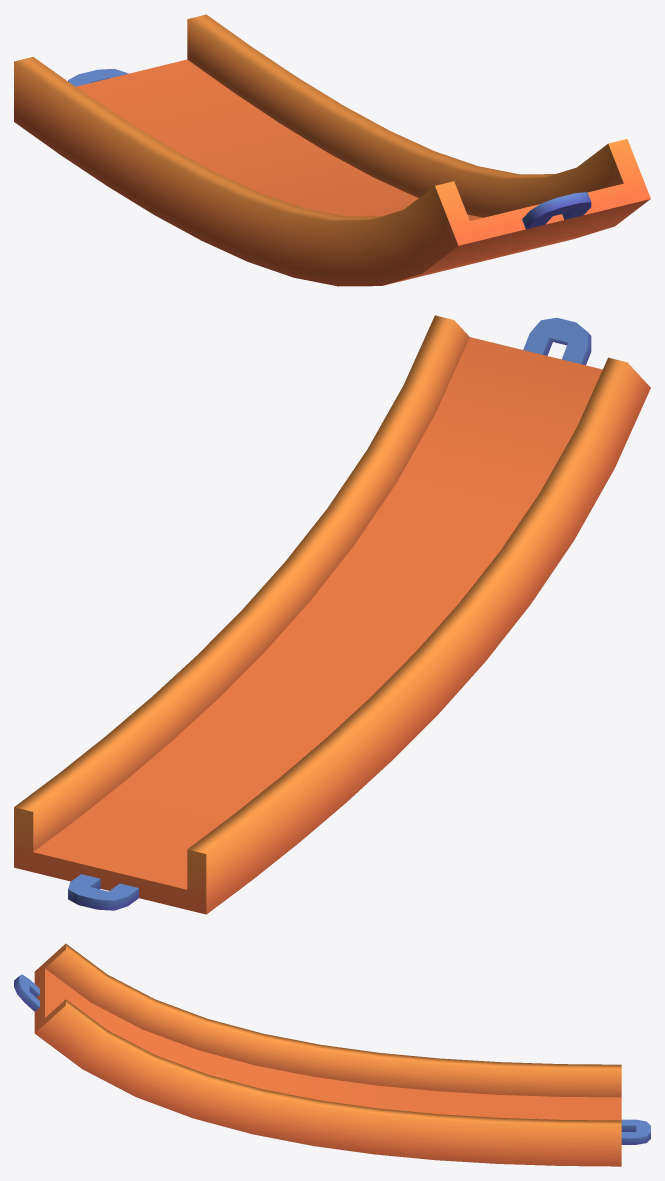
File: track-narrow-straight-hill-beginning.glb
3 views of the same model, one above another, from view 1: azimuth 30°, elevation 25°; view 2: azimuth 150°, elevation 25°; view 3: azimuth 270°, elevation 25° (orthographic). The views are drawn at different scales.
Visible parts, largest first — view 1: track-narrow-straight-hill-beginning; view 2: track-narrow-straight-hill-beginning; view 3: track-narrow-straight-hill-beginning.
Boxes of the visible parts, x1=… form: track-narrow-straight-hill-beginning: x1=14, y1=14, x2=650, y2=286; track-narrow-straight-hill-beginning: x1=14, y1=315, x2=650, y2=914; track-narrow-straight-hill-beginning: x1=14, y1=943, x2=650, y2=1166.
Bounding box in the file's own units: 1 × 1.21 × 4.34.
1 material, 1 textured.
